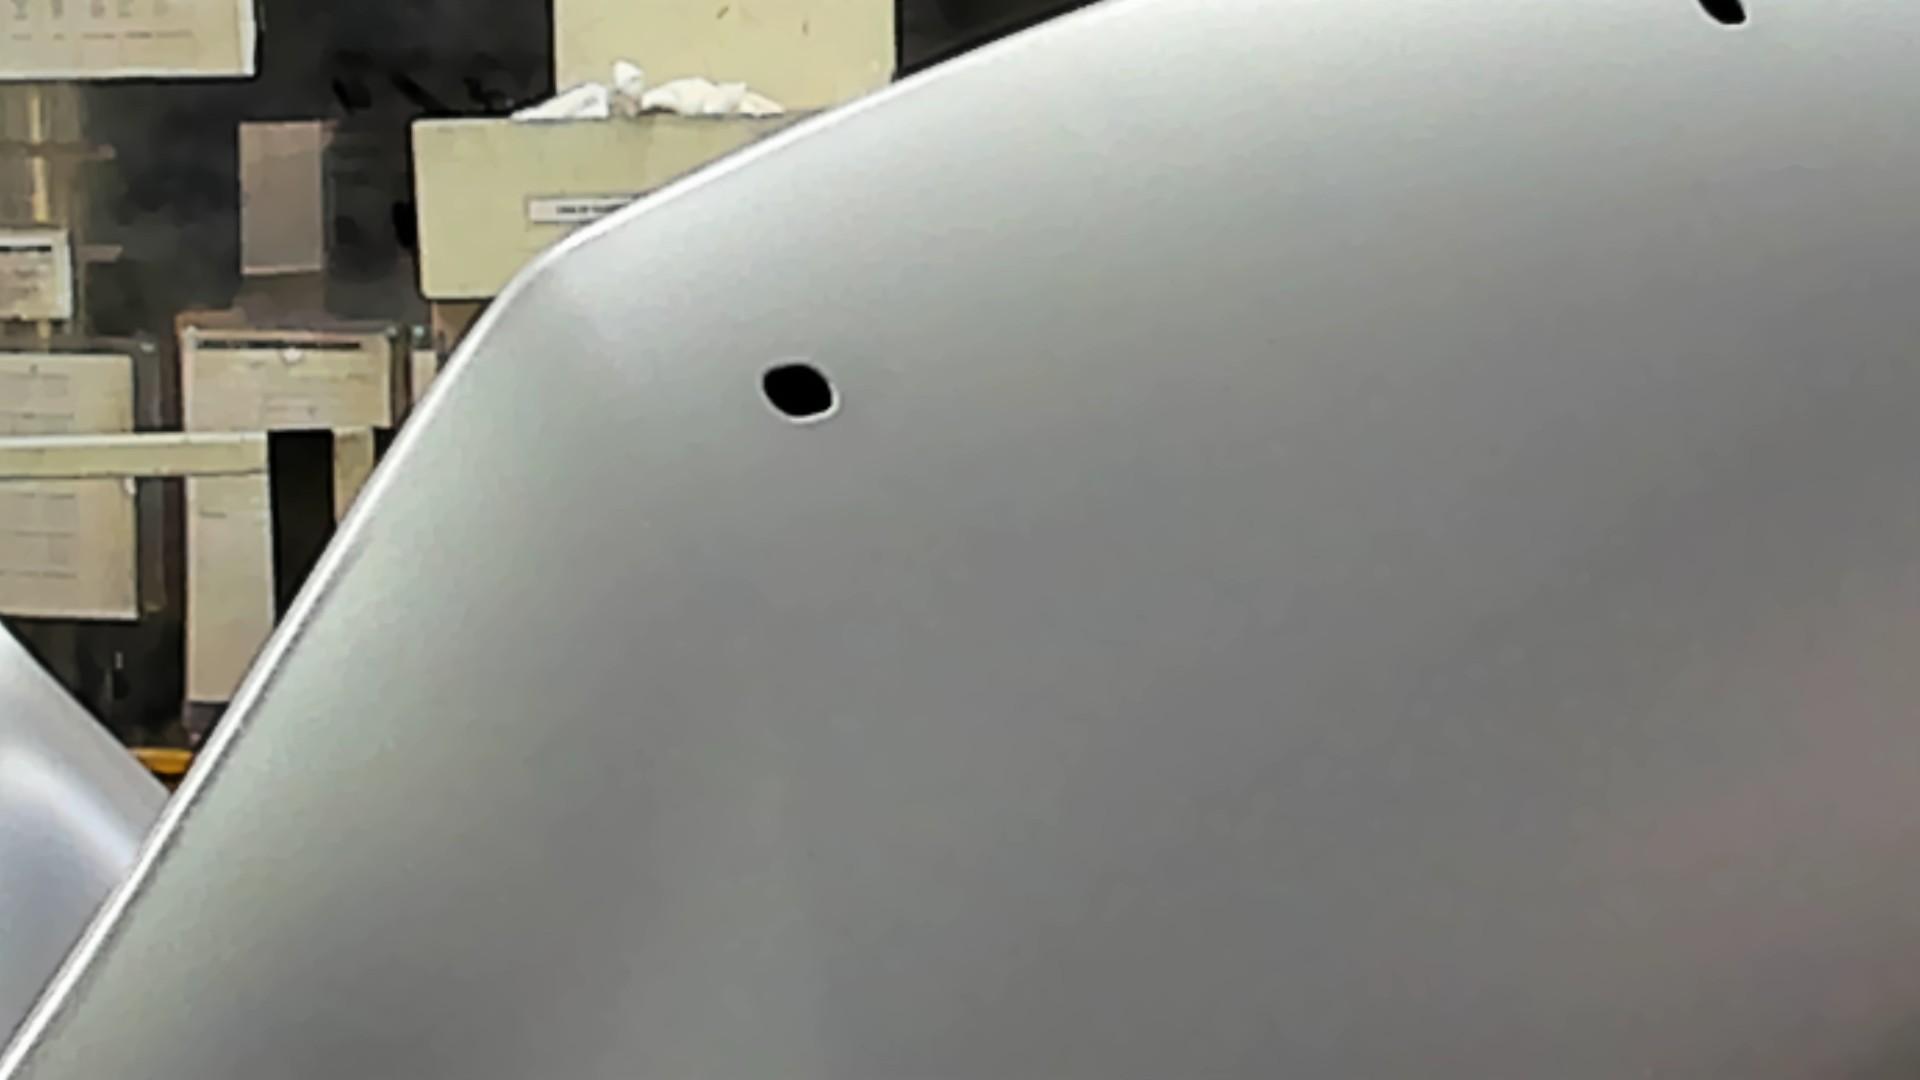amorfo: (754, 360, 843, 427), (1692, 1, 1751, 32)
